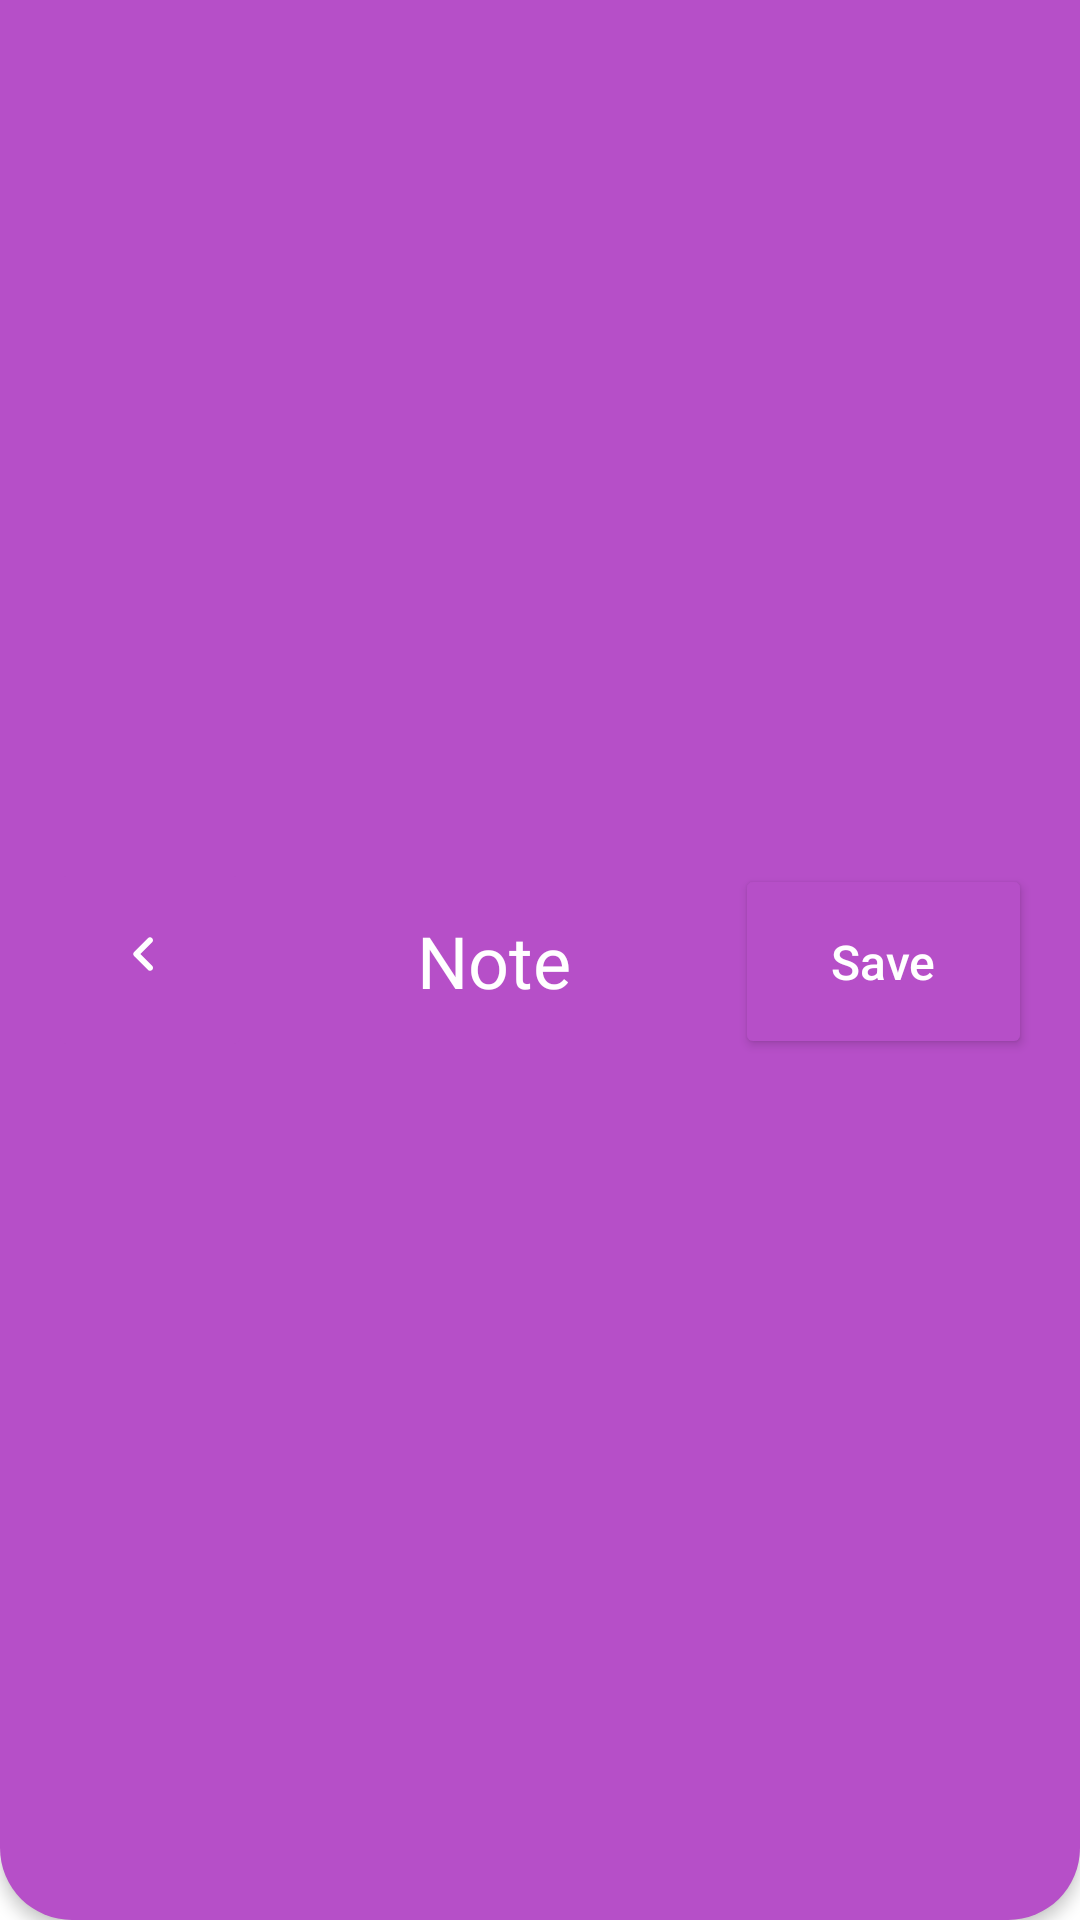

Named icons in this screenshot (1080 x 1920) and their bounding boxes, (x1=x1, y1=y1, x2=x2, y2=y2):
back: (x1=133, y1=937, x2=153, y2=971)
